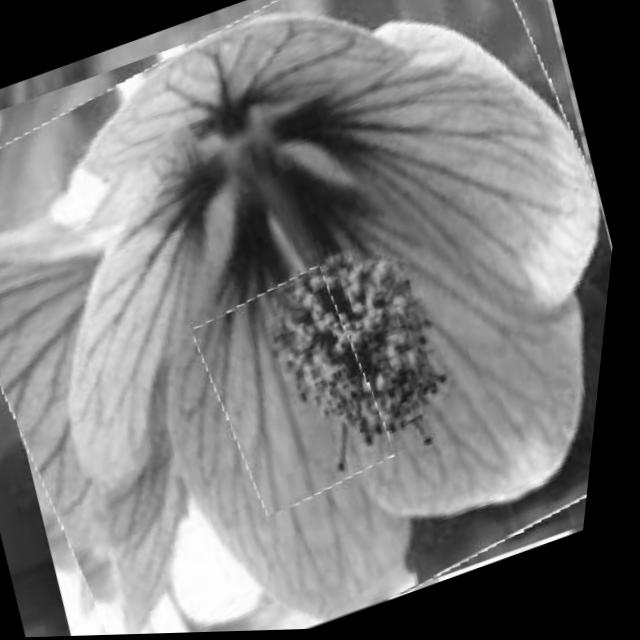Flower: (185, 261, 419, 524)
